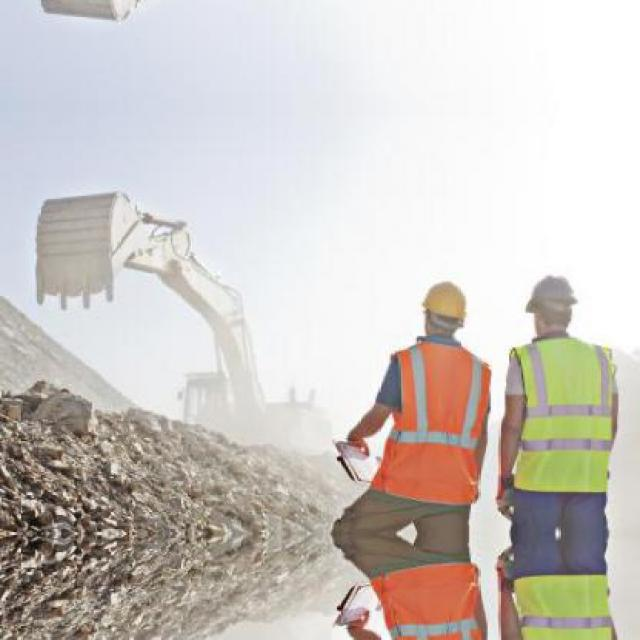Reflective-Jacket: (363, 334, 495, 514), (497, 330, 628, 507)
Safety-Helmet: (409, 273, 478, 335), (515, 264, 588, 320)
